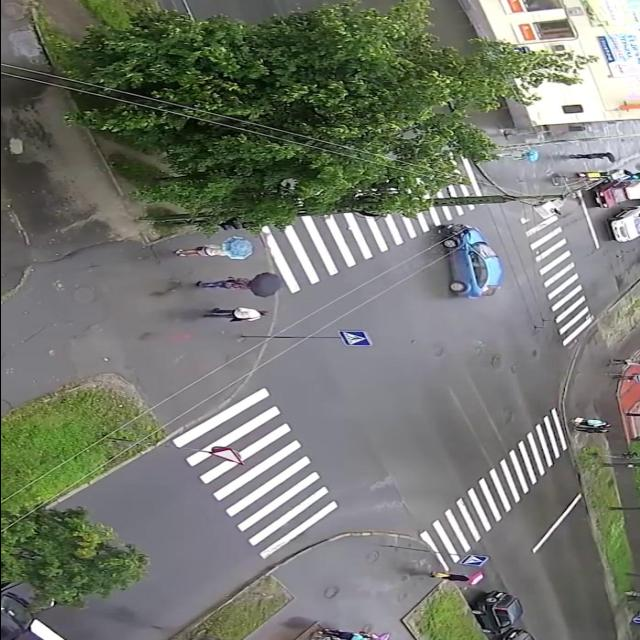accident: (430, 217, 510, 305)
